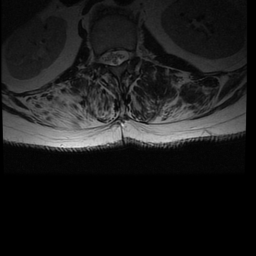CCS_normal: (110, 42, 118, 72)
LFS_normal: (128, 41, 136, 64)
LLS_normal: (119, 41, 128, 68)
RFS_normal: (94, 45, 102, 69)
RLS_normal: (102, 44, 110, 69)
